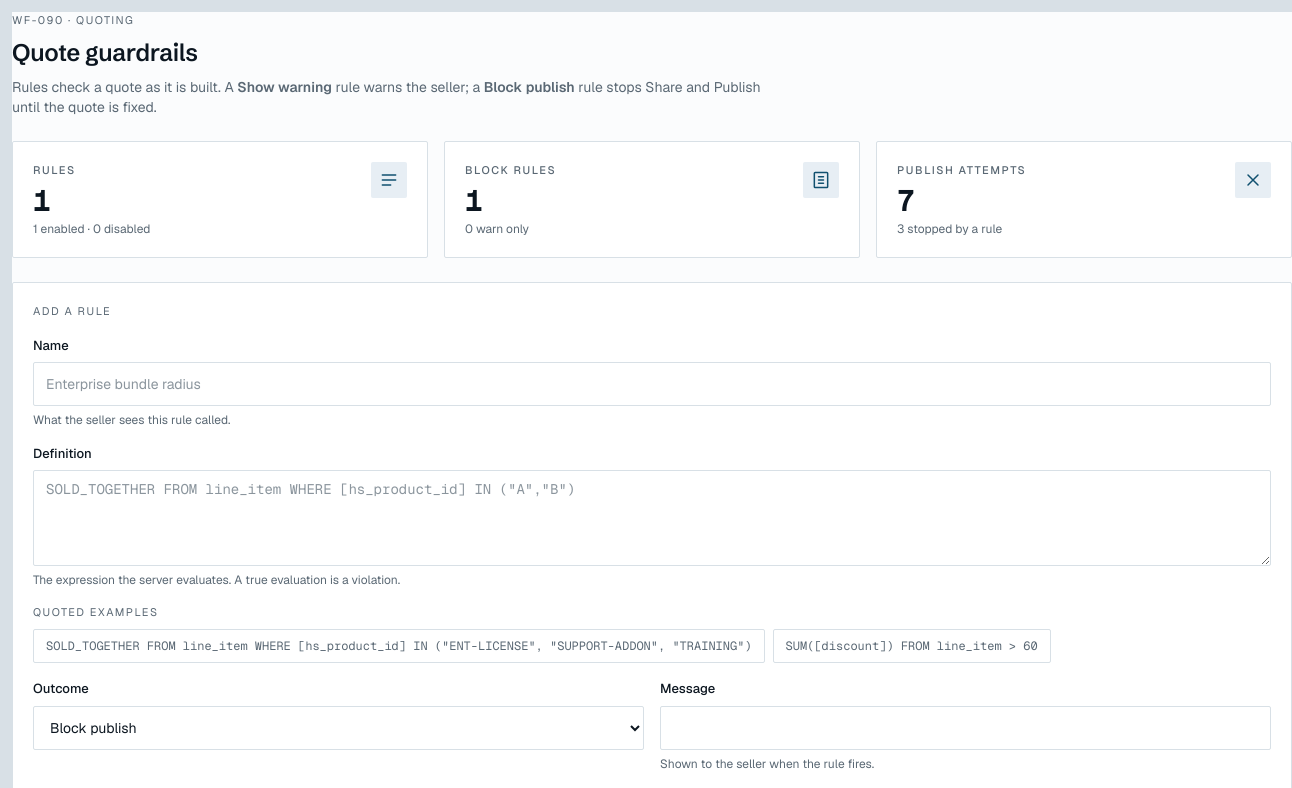
Scenario: the page › offers the five quoted examples and fills the definition with one
Check: the heading "Quote guardrails" is shown, box [12, 38, 198, 67]
Step 1. Click the button "SOLD_TOGETHER FROM line_item WHERE [hs_product_id] IN (\"ENT-LICENSE\", \"SUPPORT-ADDON\", \"TRAINING\")" → (399, 646), box [33, 630, 765, 664]
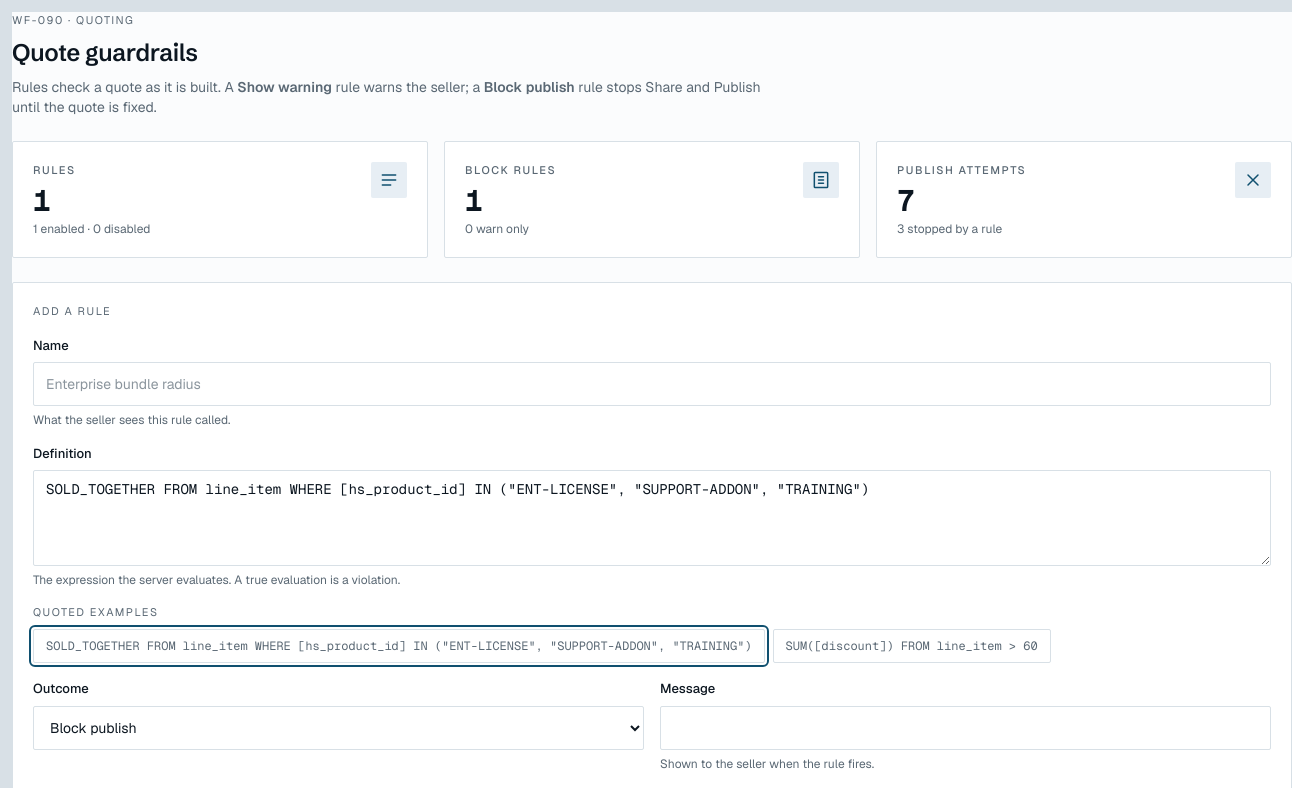
Check: the text box labelled "Definition" holds "SOLD_TOGETHER FROM line_item WHERE [hs_product_id] IN (\"ENT-LICENSE\", \"SUPPORT-ADDON\", \"TRAINING\")", box [33, 470, 1271, 566]
